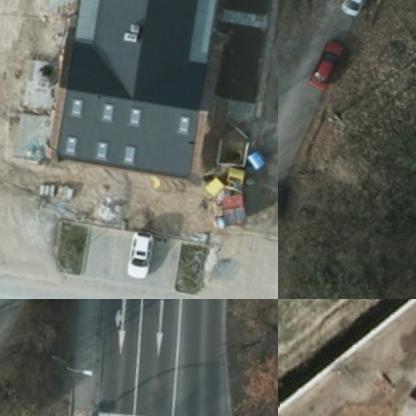car: (302, 38, 348, 94), (112, 230, 152, 281), (278, 178, 296, 238), (332, 0, 379, 21)
